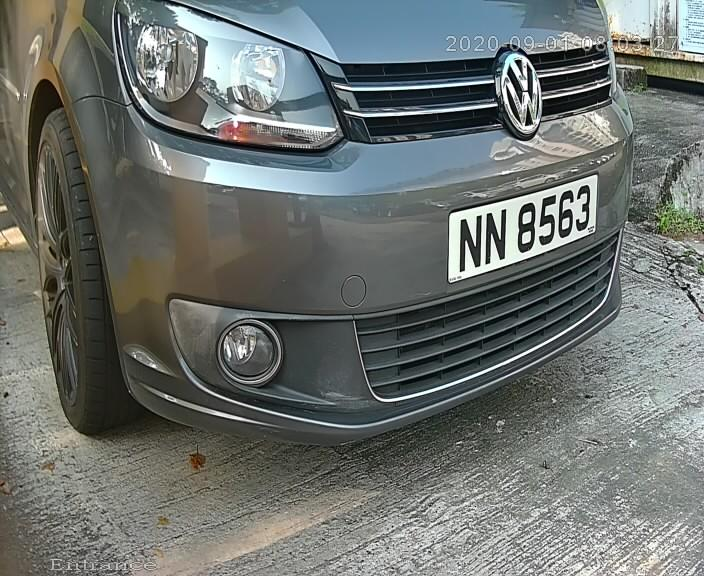Car: (19, 1, 679, 476)
License Plate: (441, 168, 601, 291)
